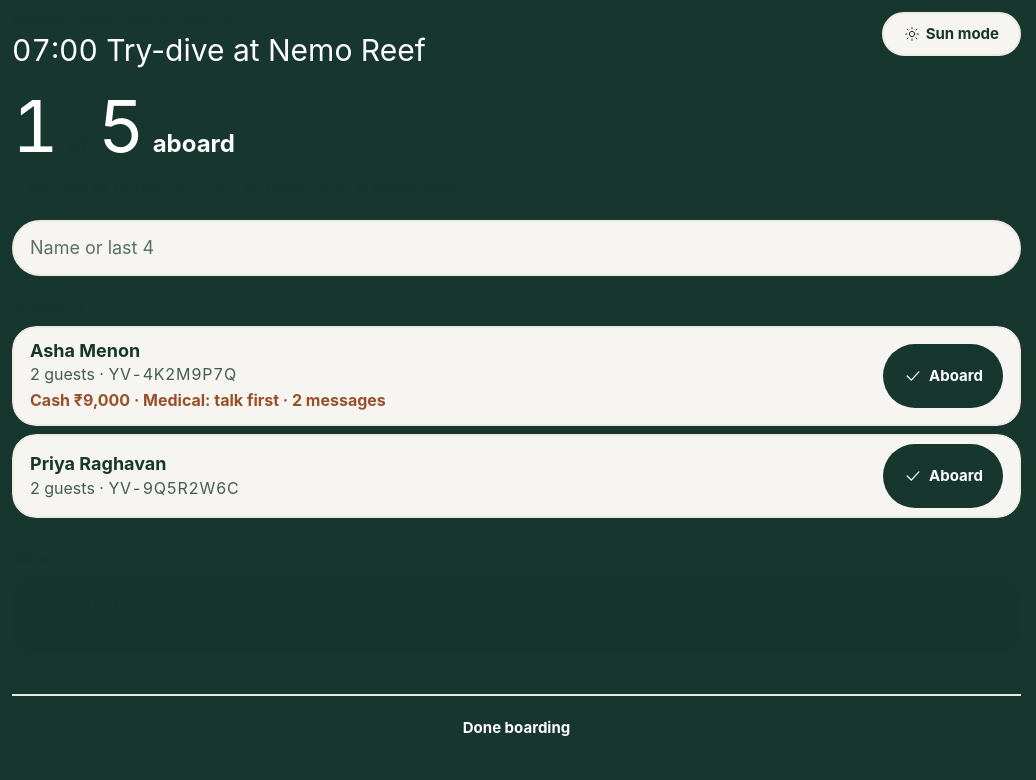
Scenario: boarding, showing where a party went › rolls the headcount up, and keeps its text the one number
This screenshot has width=1036, height=780.
Step 1. Click the button with aria-label "Aboard: check in Asha Menon" → (943, 376), box left=883, top=344, right=1003, bottom=408
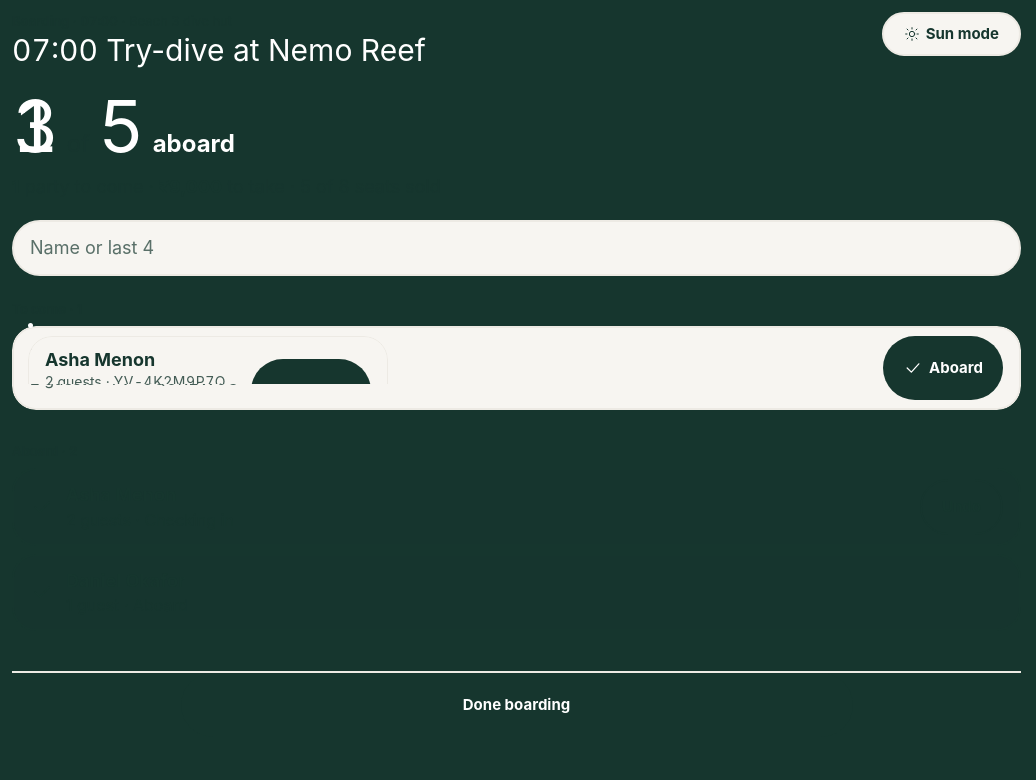
Expected: the text "aboard" reads "3 of 5 aboard", left=12, top=82, right=235, bottom=169
